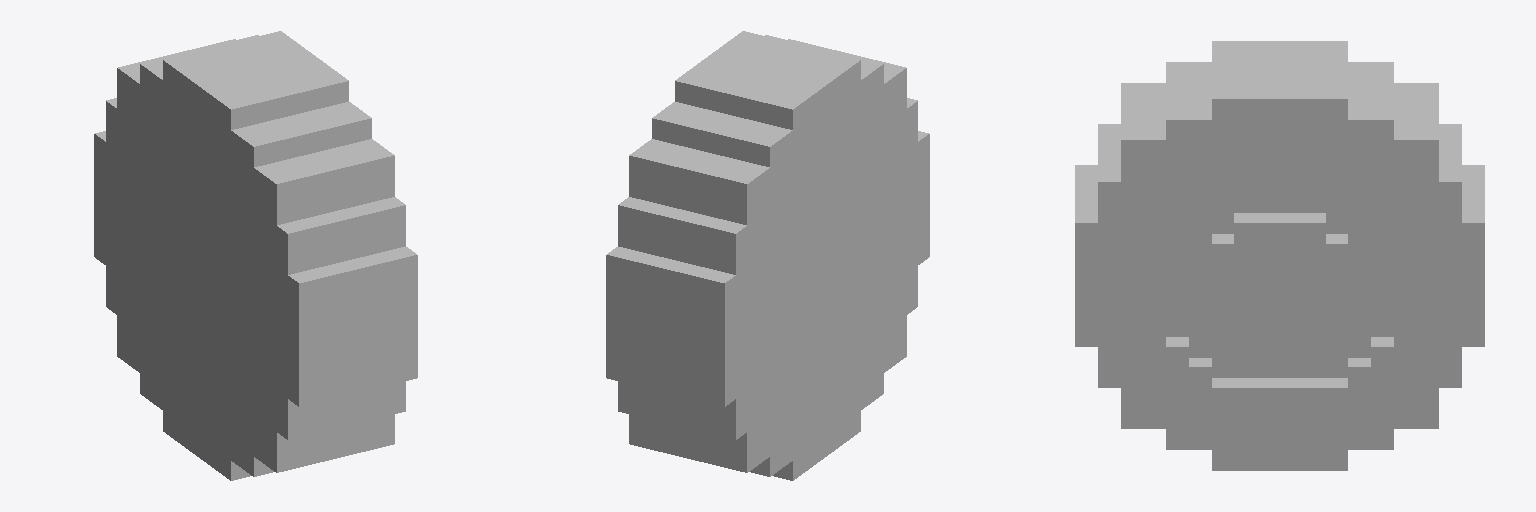
File: vaz-2106-0.obj
3 renders of one model, left to right at view 1: azimuth 30°, elevation 25°; view 2: azimuth 150°, elevation 25°; view 3: azimuth 270°, elevation 25°, orthographic.
Visible parts, largest first — view 1: object 1; view 2: object 1; view 3: object 1.
Boxes of the visible parts, box(x1,y1,x2,y2) form: object 1: box(94, 31, 417, 480); object 1: box(606, 31, 929, 480); object 1: box(1075, 41, 1484, 470).
Size of the model in its own units: 0.6 by 1.8 by 1.8.